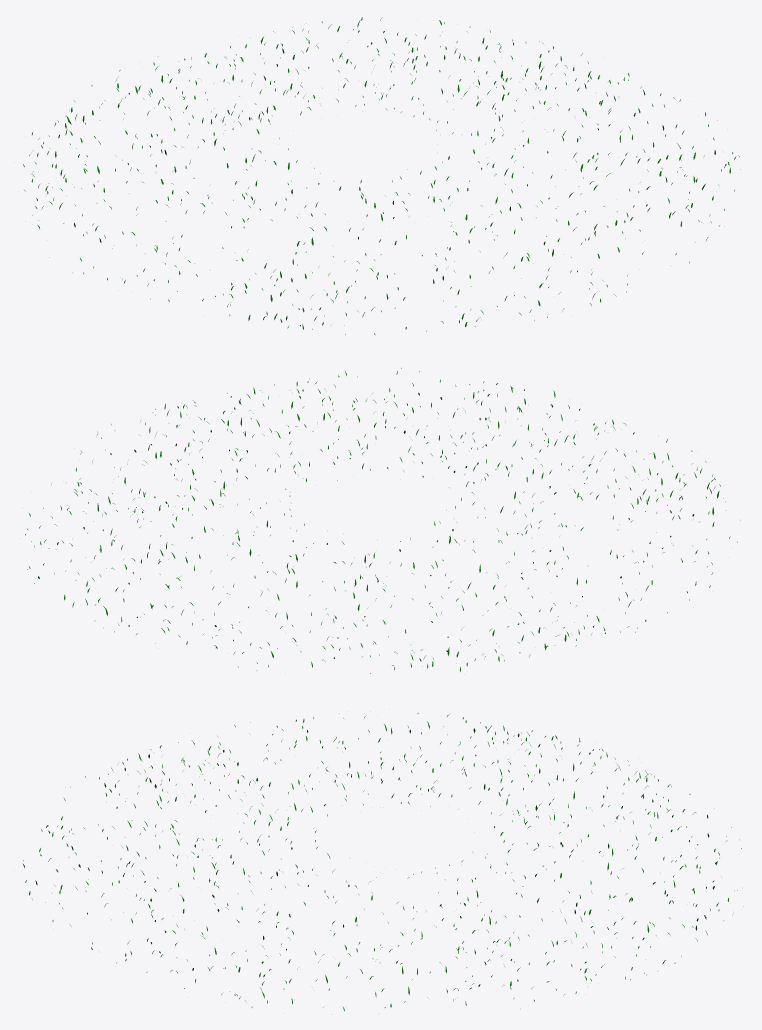
File: 02_Grass10k_01.fbx
3 views of the same model, one above another, from view 1: azimuth 30°, elevation 25°; view 2: azimuth 150°, elevation 25°; view 3: azimuth 270°, elevation 25° (orthographic). The views are drawn at different scales.
Parts seen in each view (by area): view 1: Grass6k_geo; view 2: Grass6k_geo; view 3: Grass6k_geo.
Part boxes in pixels (left/top/right/bottom): Grass6k_geo: left=23, top=17, right=740, bottom=334; Grass6k_geo: left=25, top=368, right=740, bottom=673; Grass6k_geo: left=23, top=713, right=743, bottom=1011.
Size of the model in its own units: 4513 by 251 by 4553.
1 material, 1 textured.
